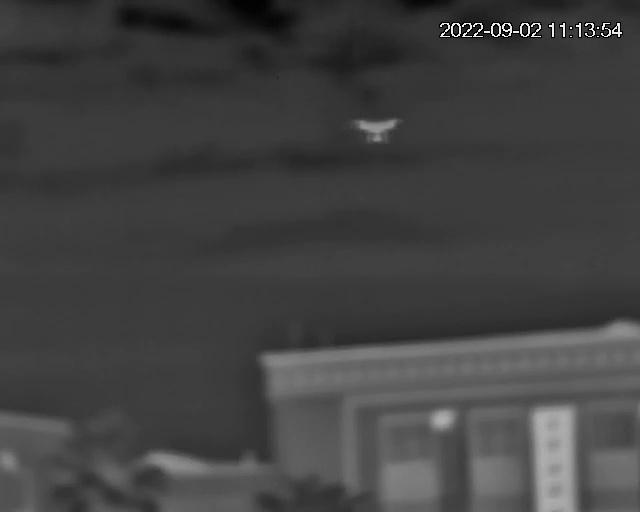DJI-Phantom: (352, 115, 404, 148)
